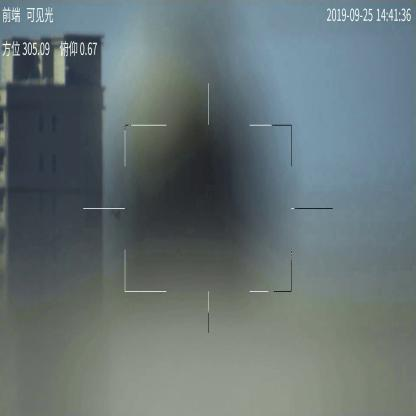uav: (106, 196, 126, 222)
